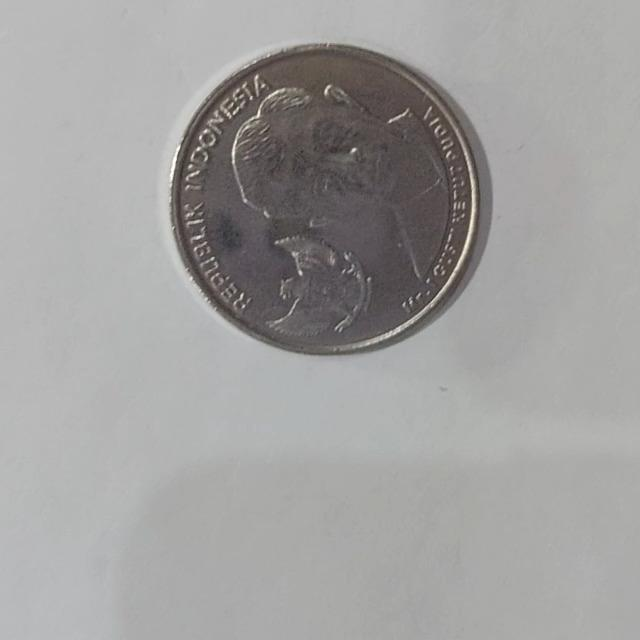Rp100: (167, 40, 483, 356)
